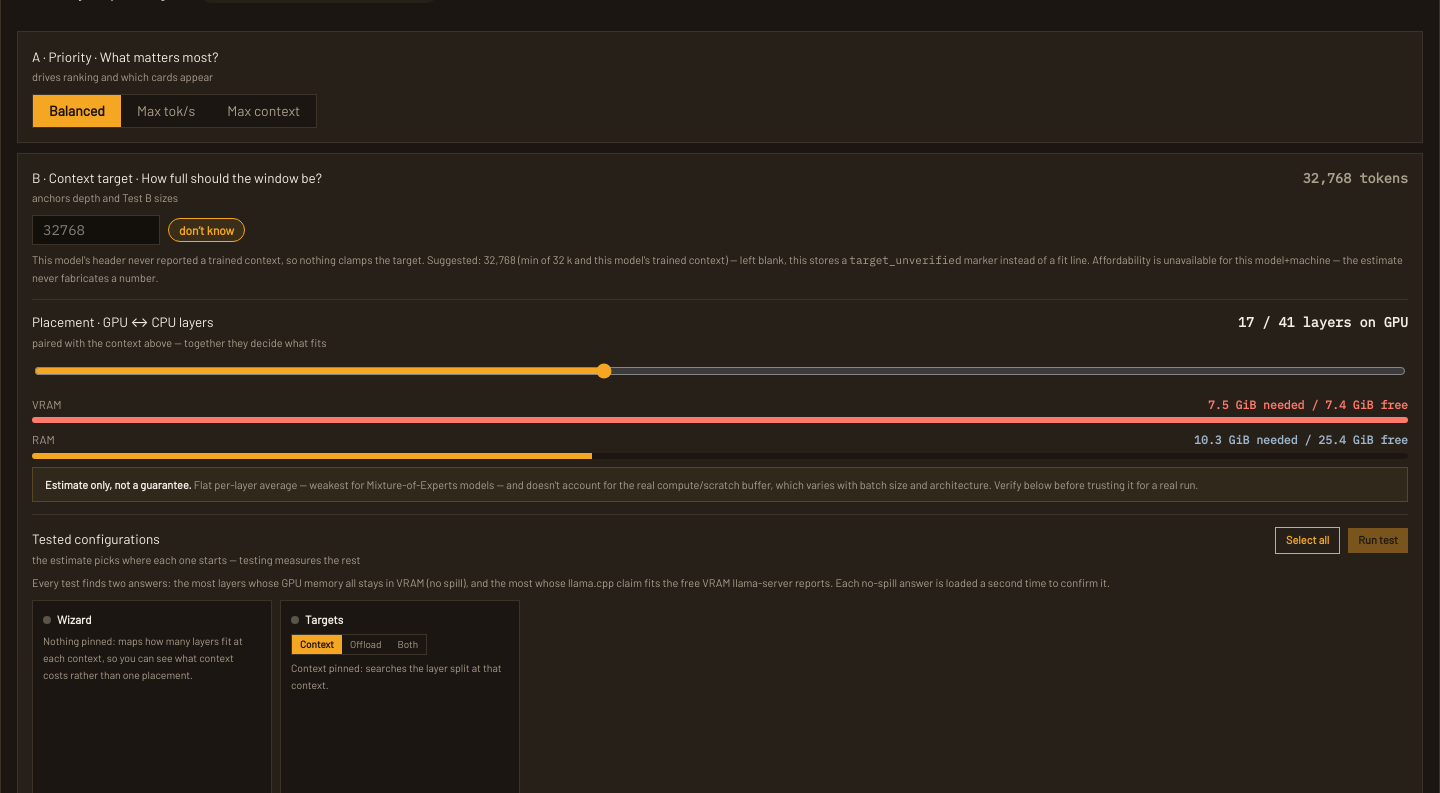
GoalQuestionnaire's Tested-configurations section › switches Targets to fixed_offload when Offload is chosen
Click the radio button labelled "Offload".
click(366, 645)  # box x1=342 y1=635 x2=389 y2=654
(page scrolled)
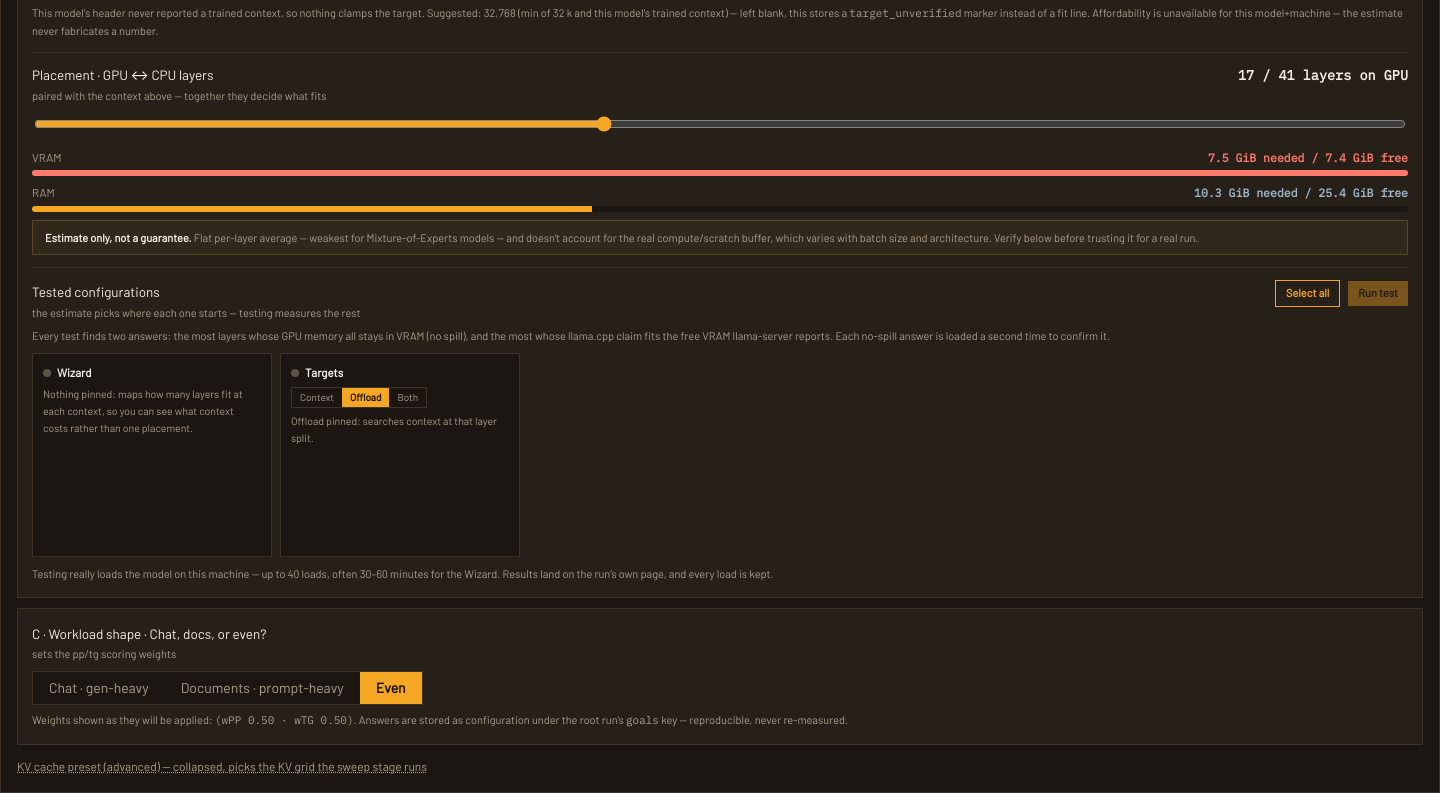
expect the button with aria-label "Targets — runs as fixed_offload" is shown: met, box x1=280 y1=353 x2=520 y2=557
